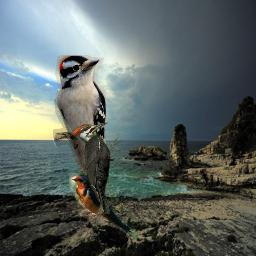Swallow: (69, 172, 138, 239)
Woodpecker: (53, 55, 106, 204), (71, 122, 123, 214)
